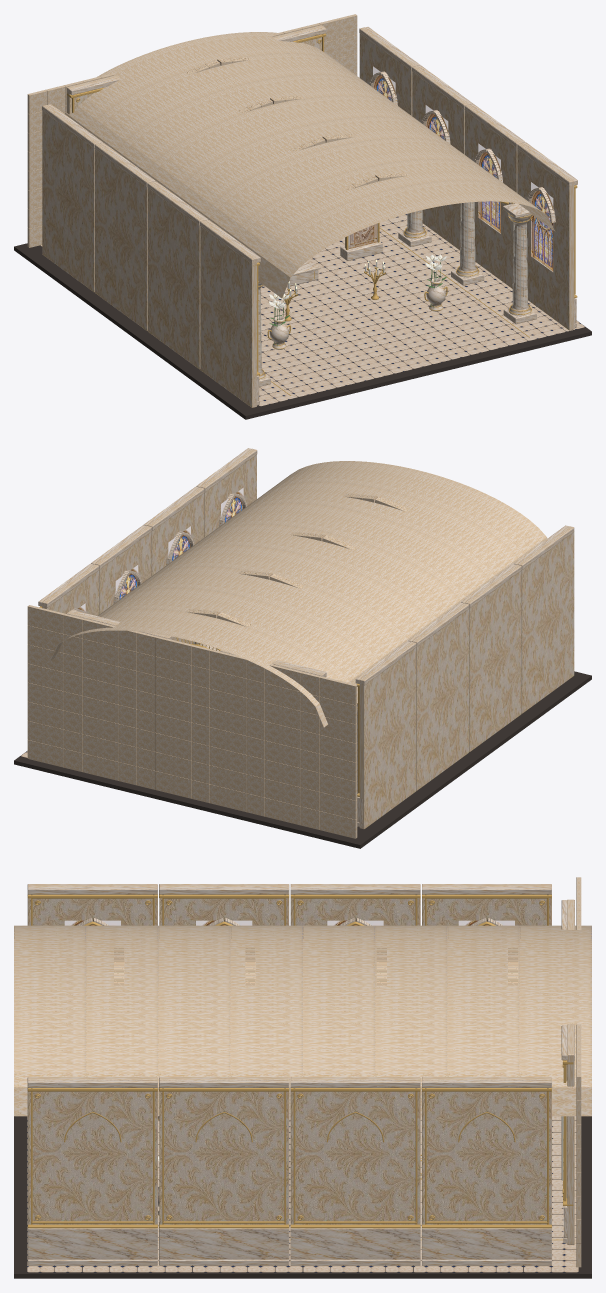
Rendered from room-4.glb.
3 views of the same model, one above another, from view 1: azimuth 30°, elevation 25°; view 2: azimuth 150°, elevation 25°; view 3: azimuth 270°, elevation 25° (orthographic). The views are drawn at different scales.
Visible parts, largest first — view 1: Detailed Vaulted stone, Detailed Ivory brocade stone, Detailed Fine floor tile, Detailed Ivory marble, Detailed Dark recess, Detailed Original sanctuary glass, Detailed Hand chased antique gilt, Detailed Warm porcelain ivory; view 2: Detailed Ivory brocade stone, Detailed Vaulted stone, Detailed Dark recess, Detailed Ivory marble, Detailed Original sanctuary glass; view 3: Detailed Ivory brocade stone, Detailed Vaulted stone, Detailed Ivory marble, Detailed Hand chased antique gilt, Detailed Dark recess, Detailed Fine floor tile, Detailed Original sanctuary glass.
Boxes of the visible parts, box(x1,y1,x2,y2) form: Detailed Vaulted stone: box(65, 32, 555, 298); Detailed Ivory brocade stone: box(27, 14, 574, 407); Detailed Fine floor tile: box(41, 214, 584, 406); Detailed Ivory marble: box(42, 27, 577, 405); Detailed Dark recess: box(14, 214, 591, 419); Detailed Original sanctuary glass: box(373, 66, 553, 271); Detailed Hand chased antique gilt: box(67, 33, 577, 395); Detailed Warm porcelain ivory: box(259, 202, 527, 367); Detailed Ivory brocade stone: box(27, 448, 574, 838); Detailed Vaulted stone: box(51, 461, 547, 727); Detailed Dark recess: box(14, 671, 591, 848); Detailed Ivory marble: box(38, 448, 574, 827); Detailed Original sanctuary glass: box(78, 487, 243, 612); Detailed Ivory brocade stone: box(27, 877, 581, 1267); Detailed Vaulted stone: box(14, 925, 591, 1116); Detailed Ivory marble: box(27, 884, 574, 1265); Detailed Hand chased antique gilt: box(27, 894, 573, 1240); Detailed Dark recess: box(14, 1116, 591, 1278); Detailed Fine floor tile: box(27, 1116, 578, 1272); Detailed Original sanctuary glass: box(64, 920, 514, 925).
Bounding box in the file's own units: 19 × 8.92 × 22.
Materials: 14 (8 with a texture image).
